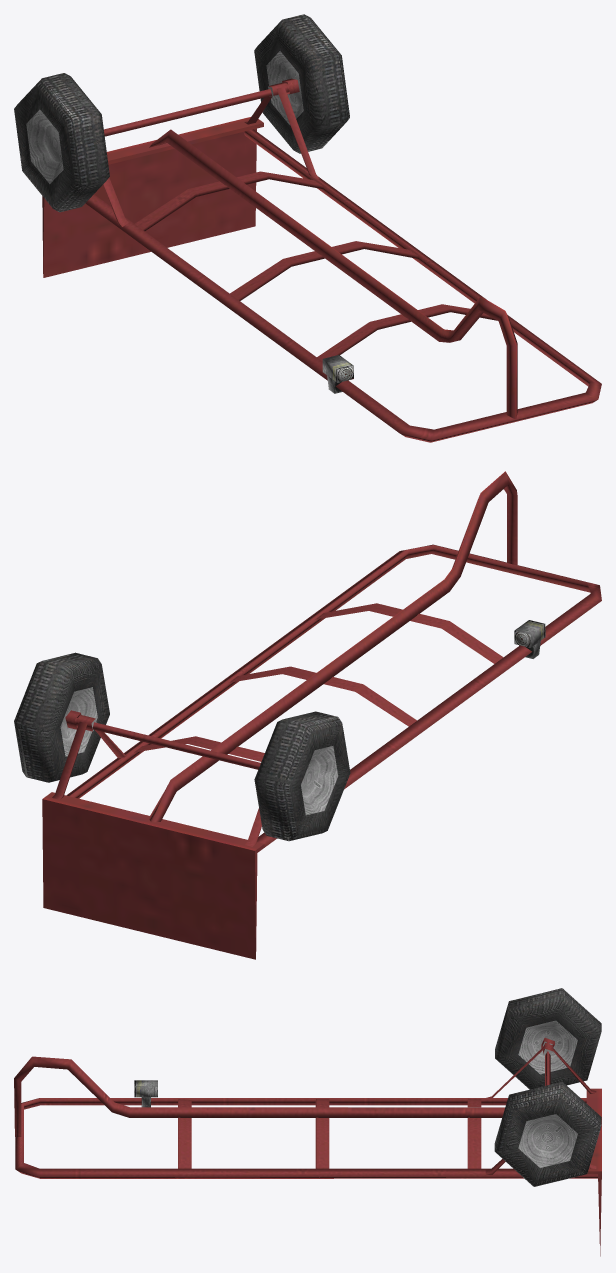
Rendered from nt_2020_dolly_01_LOD1.obj.
The picture shows the model from 3 angles, top to bottom: view 1: azimuth 30°, elevation 25°; view 2: azimuth 150°, elevation 25°; view 3: azimuth 270°, elevation 25°; orthographic projection. The views are drawn at different scales.
Visible parts, largest first — view 1: mtl_nt_2020_dolly_01; view 2: mtl_nt_2020_dolly_01; view 3: mtl_nt_2020_dolly_01.
Boxes of the visible parts, x1,y1,x2,y2 form: mtl_nt_2020_dolly_01: (14,14,601,442); mtl_nt_2020_dolly_01: (14,471,601,959); mtl_nt_2020_dolly_01: (14,988,601,1256).
Size of the model in its own units: 64.1 by 49.89 by 149.
